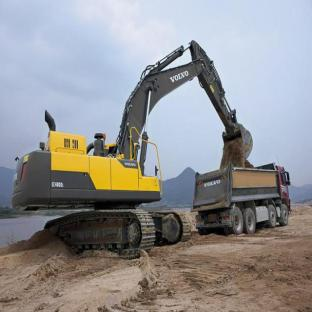ExcavationMachinery: (14, 58, 238, 279)
Vehicle: (191, 155, 299, 239)
